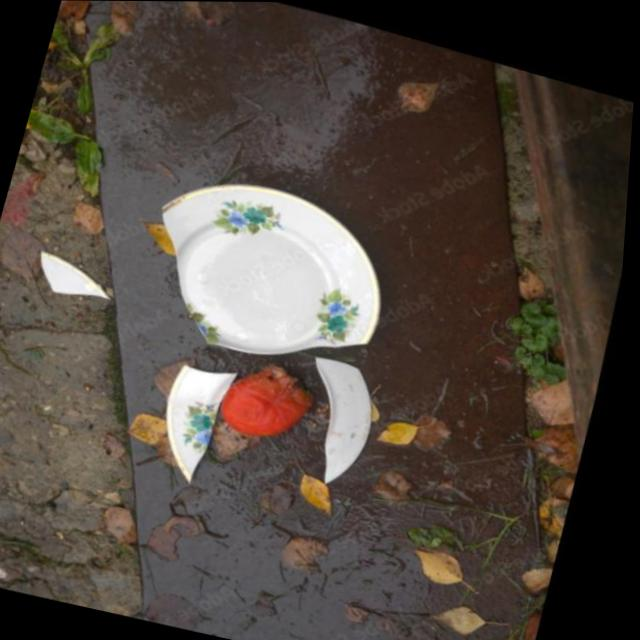foam box: (120, 149, 433, 391), (277, 344, 409, 515), (148, 335, 265, 507), (21, 236, 130, 326)
